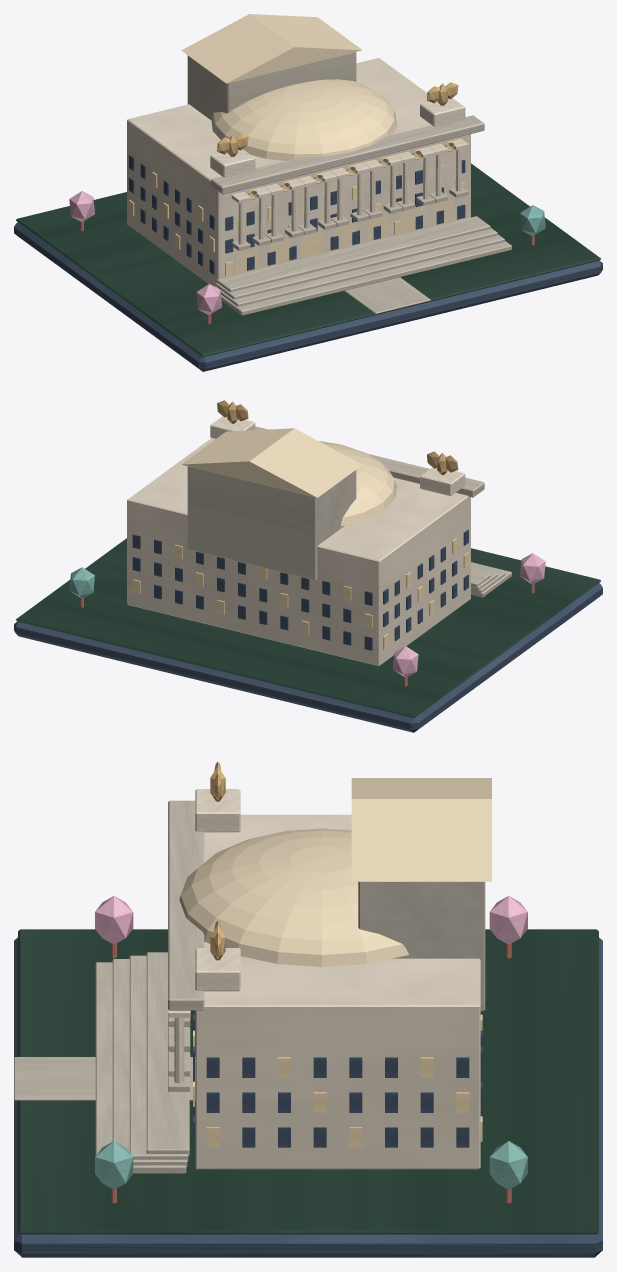
The model's file is palais-garnier-diorama.glb.
The picture shows the model from 3 angles, top to bottom: view 1: azimuth 30°, elevation 25°; view 2: azimuth 150°, elevation 25°; view 3: azimuth 270°, elevation 25°; orthographic projection. The views are drawn at different scales.
Visible parts, largest first — view 1: palais-garnier; view 2: palais-garnier; view 3: palais-garnier.
Boxes of the visible parts, <box> form: palais-garnier: <box>14,14,602,371</box>; palais-garnier: <box>14,400,602,732</box>; palais-garnier: <box>14,762,602,1257</box>.
Size of the model in its own units: 16 by 7.52 by 13.
Materials: 1 (1 with a texture image).
